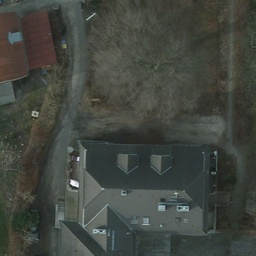car: (21, 205, 40, 241)
